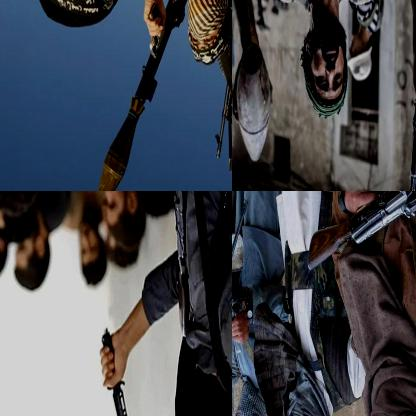knife: (98, 333, 140, 415)
rifle: (87, 0, 194, 190), (306, 191, 415, 273), (209, 8, 231, 172), (168, 191, 193, 328), (232, 196, 253, 345)
